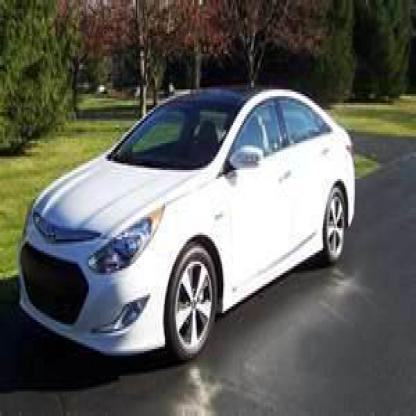Vehicle: (15, 87, 358, 362)
